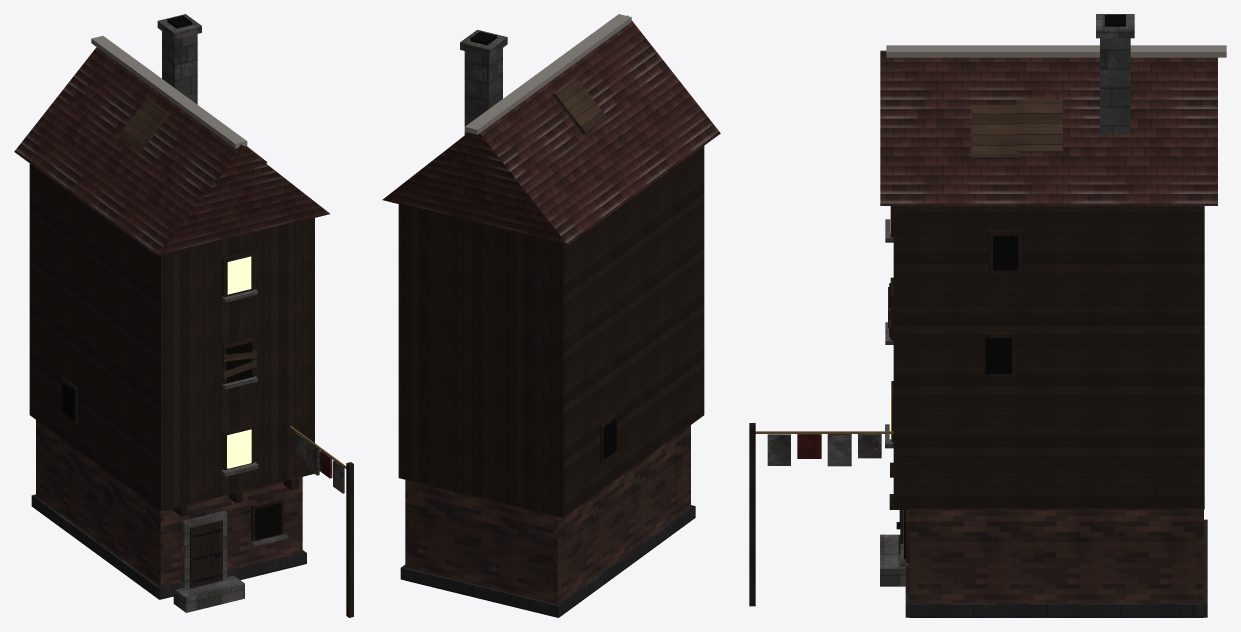
Rendered from CasaS21.gltf.
3 renders of one model, left to right at view 1: azimuth 30°, elevation 25°; view 2: azimuth 150°, elevation 25°; view 3: azimuth 270°, elevation 25°, orthographic. The views are drawn at different scales.
Parts seen in each view (by area): view 1: CasaS21; view 2: CasaS21; view 3: CasaS21.
Boxes of the visible parts, box(x1,y1,x2,y2) form: CasaS21: box(14, 14, 353, 617); CasaS21: box(382, 14, 720, 617); CasaS21: box(749, 14, 1226, 617).
Size of the model in its own units: 5.65 by 15.44 by 11.38.
Materials: 14 (9 with a texture image).
